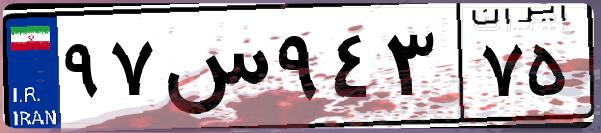3: (385, 28, 445, 110)
4: (330, 28, 385, 110)
5: (525, 38, 570, 115)
7: (475, 38, 525, 113), (110, 28, 158, 98)
9: (270, 28, 330, 110), (57, 26, 110, 100)
س: (158, 20, 270, 120)
